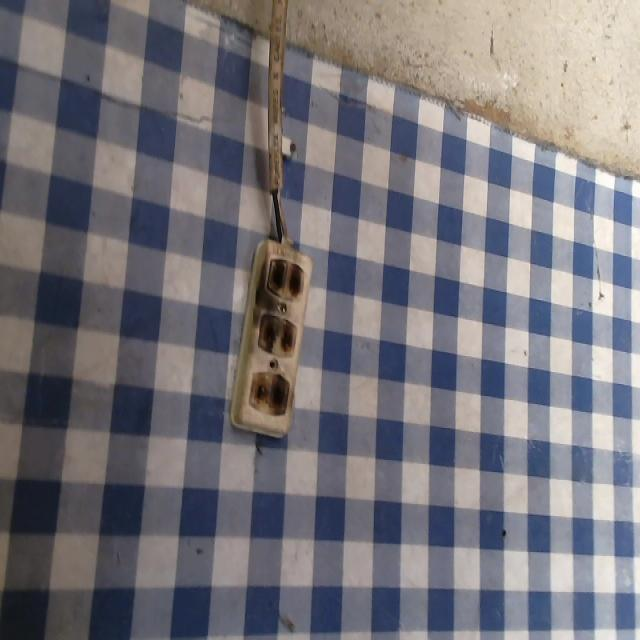-: (260, 244, 309, 307), (246, 364, 294, 419), (252, 307, 301, 360)
